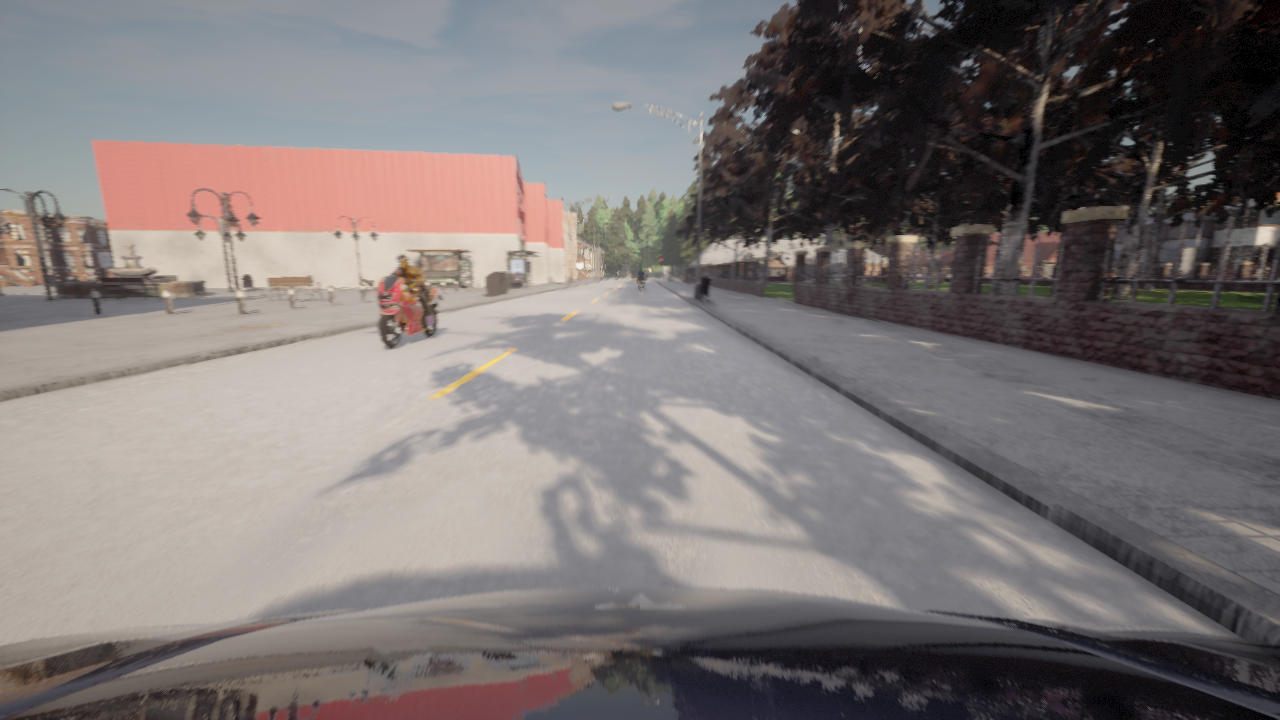cyclist: (0, 588, 1279, 719), (363, 275, 444, 349), (637, 277, 644, 289), (644, 276, 646, 279)
